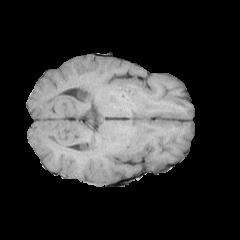glioma: (71, 111, 147, 156)
